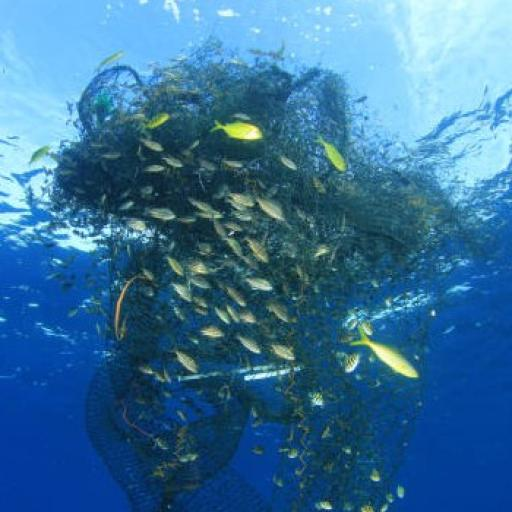net: (0, 36, 512, 512)
